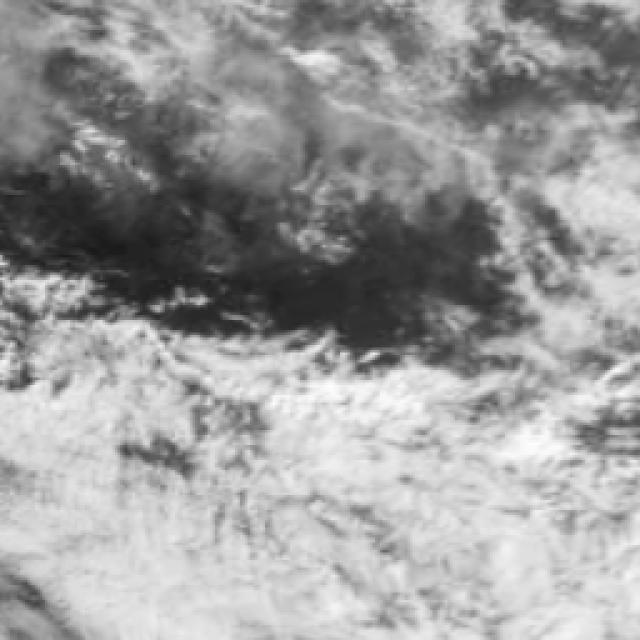CB: (263, 430, 510, 640), (80, 492, 295, 640), (18, 414, 128, 565)
